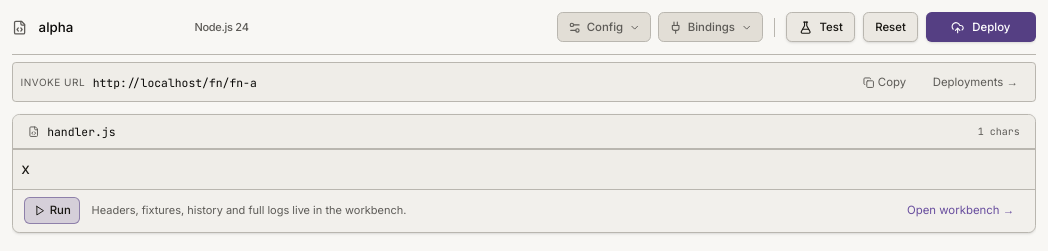
editor result strip › picks the exception out of a Python traceback too
Click the button with class "run-btn" at point(52, 211), box [24,197,80,224]
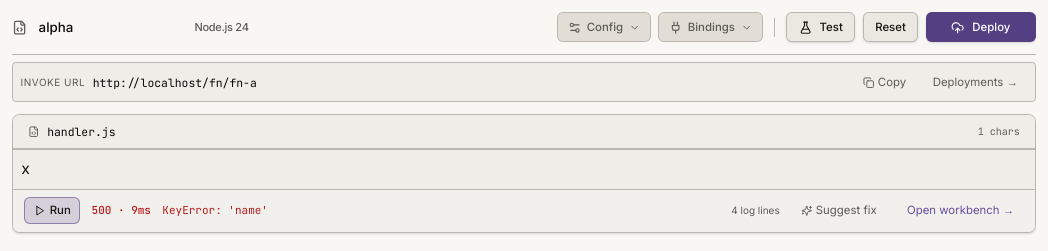
Now the text "KeyError: 'name'" is shown, box [162,203,268,217]
